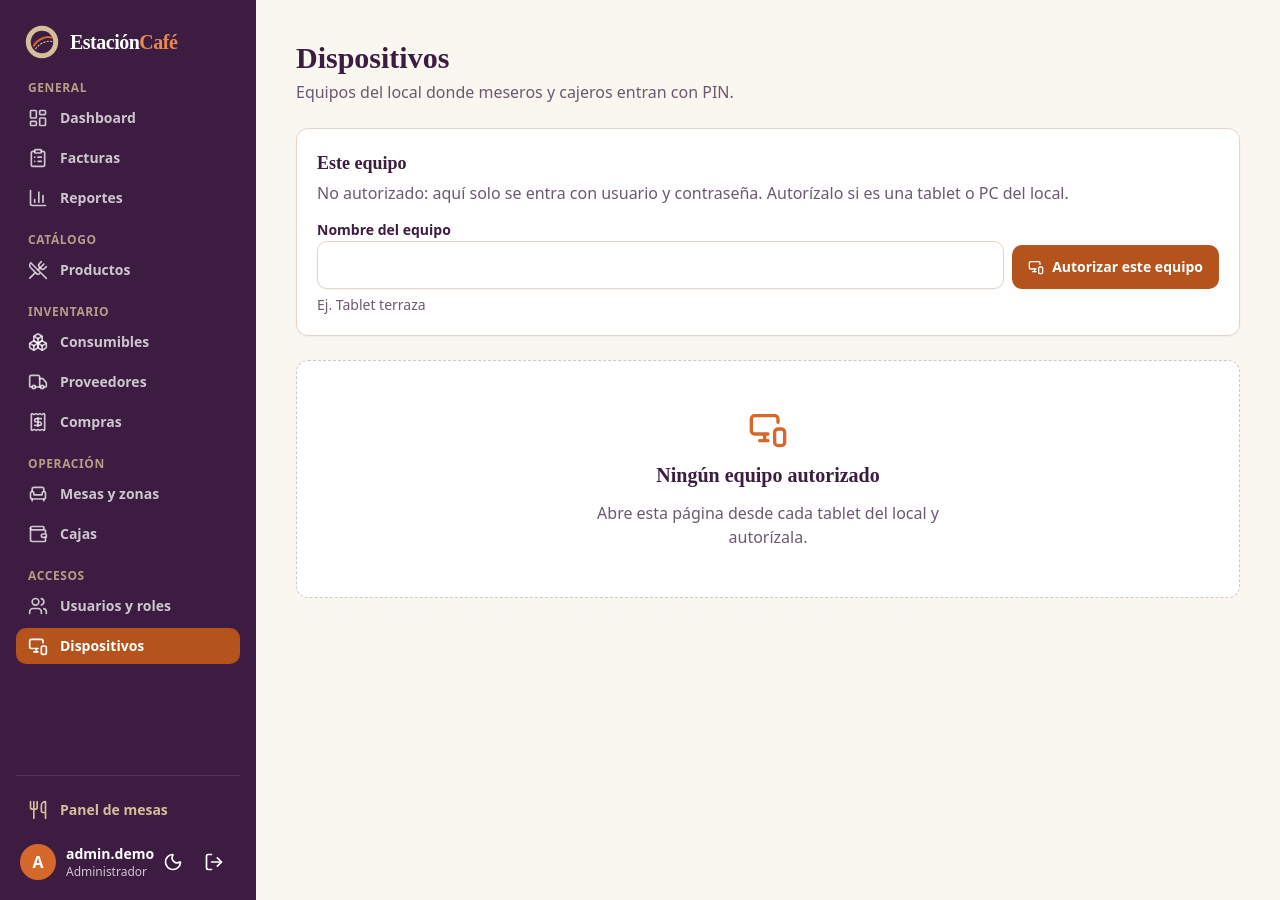
Test: Dispositivos y PIN (admin) › autoriza este equipo, lo renombra y lo revoca
Check: the text "No autorizado" is shown, box [317, 182, 1069, 204]
Type "Tablet terraza" into the field labelled "Nombre del equipo" at (661, 265), box [317, 241, 1004, 289]
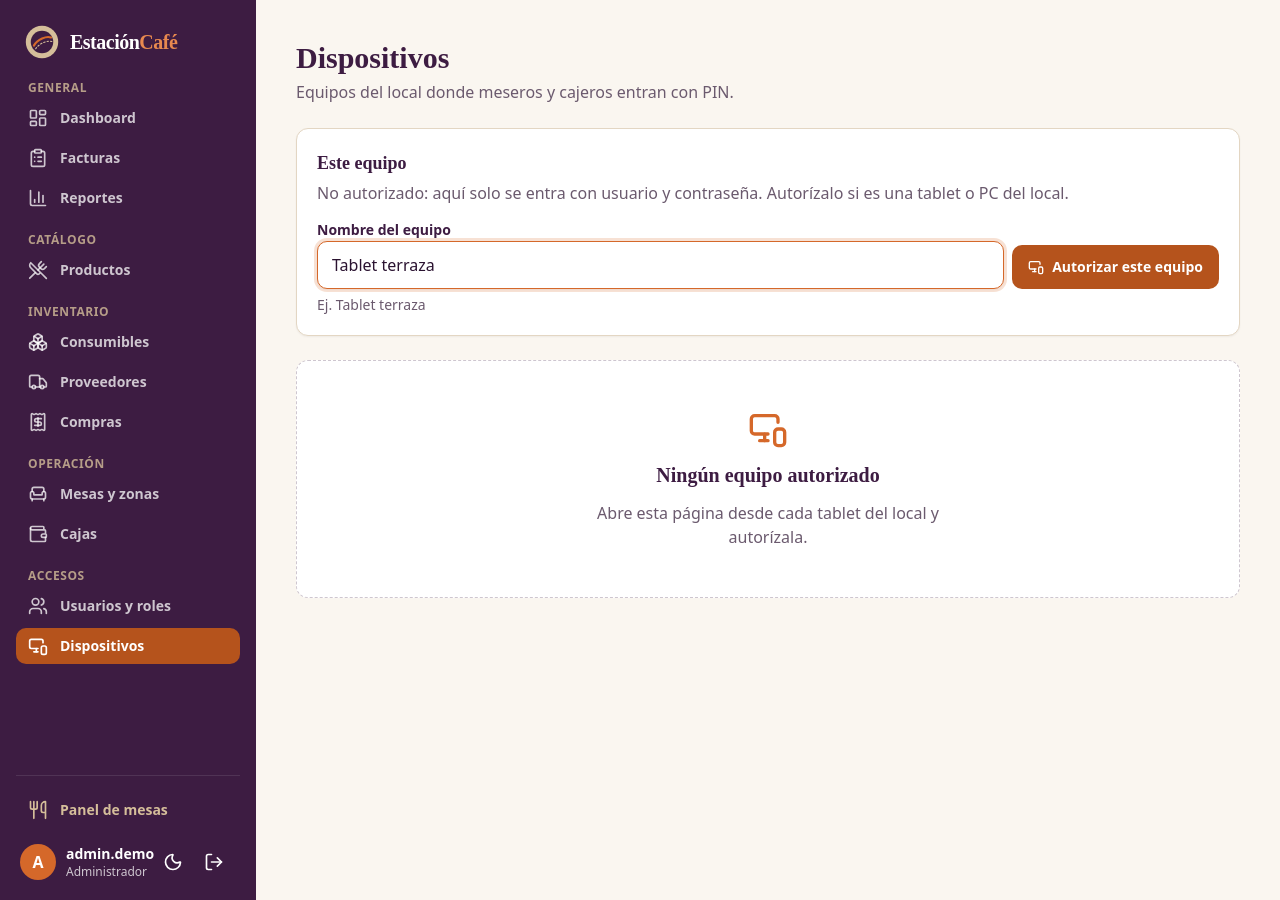
Click the button "Autorizar este equipo" at (1116, 267), box [1012, 245, 1219, 289]
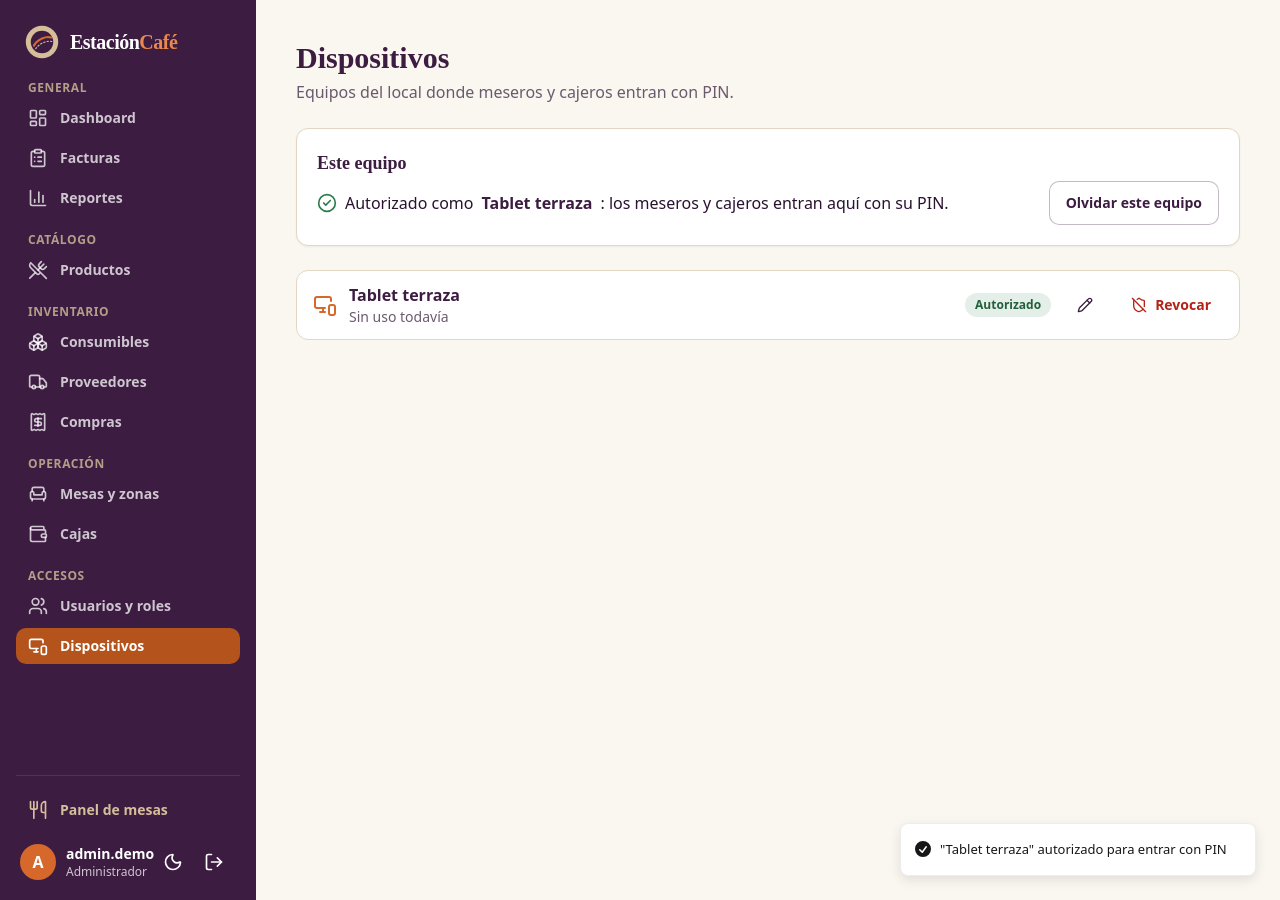
Check: the text "Autorizado como" shows "Tablet terraza", box [482, 192, 592, 214]
Click the button with aria-label "Revocar Tablet terraza" at (1171, 305), box [1119, 287, 1223, 323]
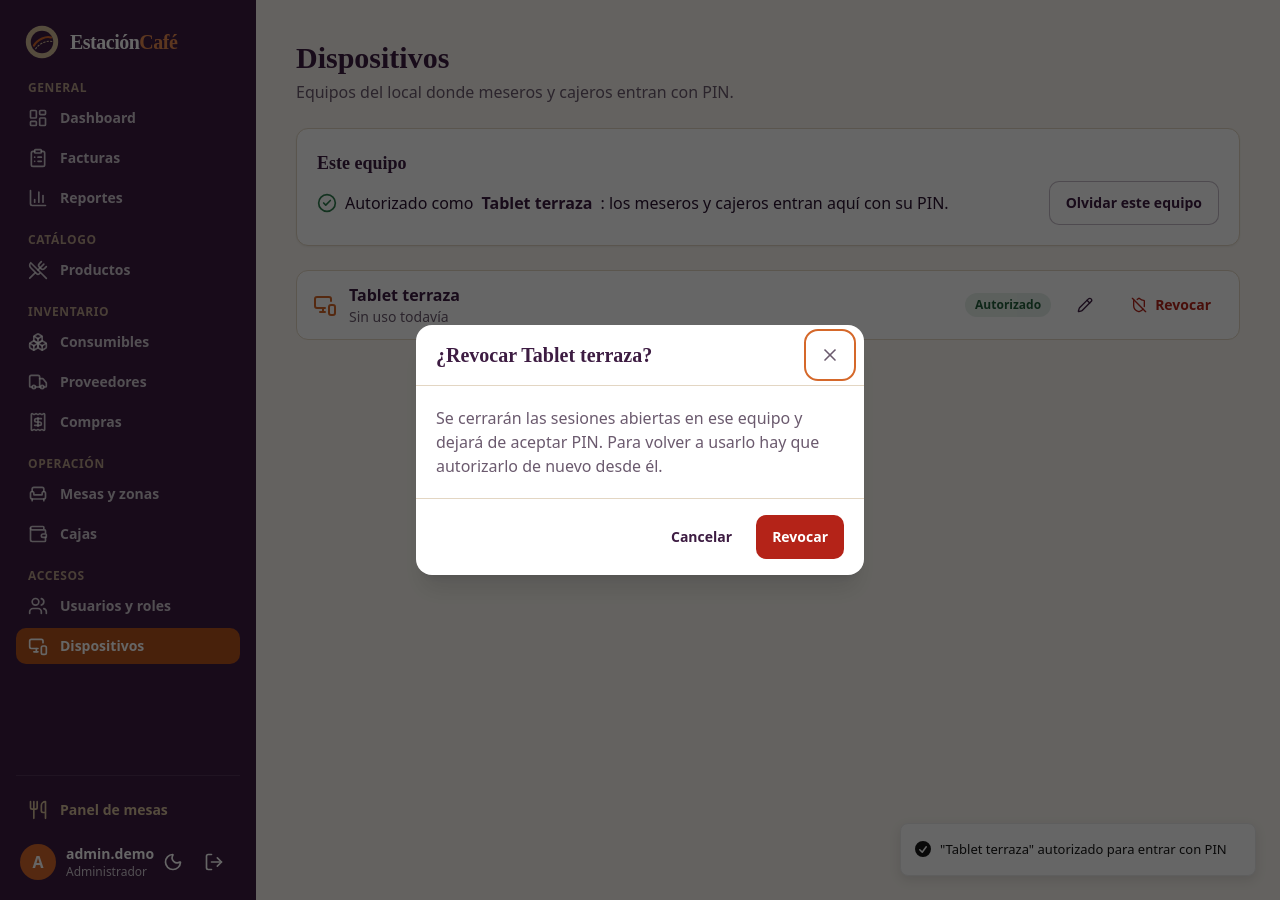
Click the button "Revocar" at (800, 537), box [756, 515, 844, 559]
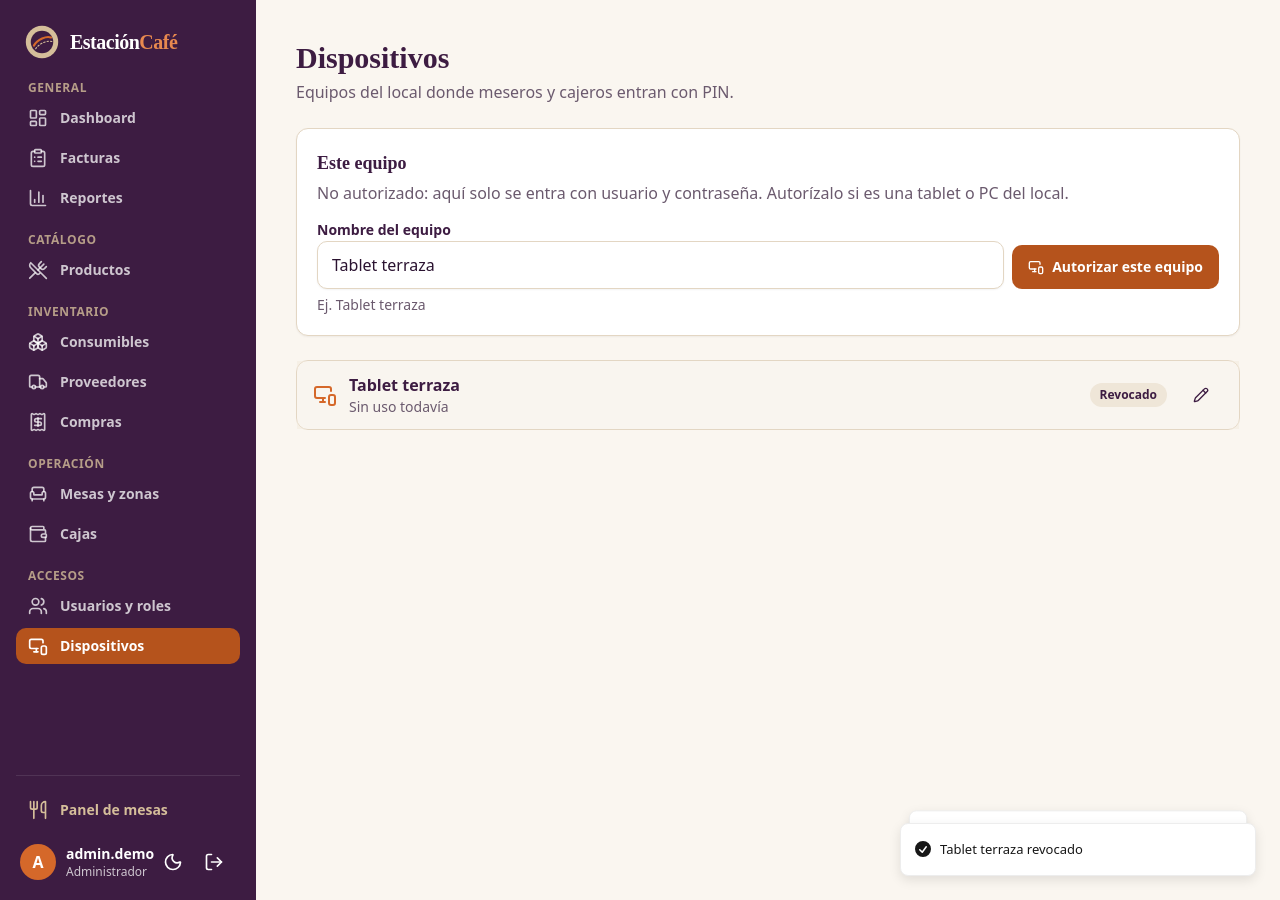
Check: the text "Revocado" is shown, box [1090, 383, 1167, 407]
